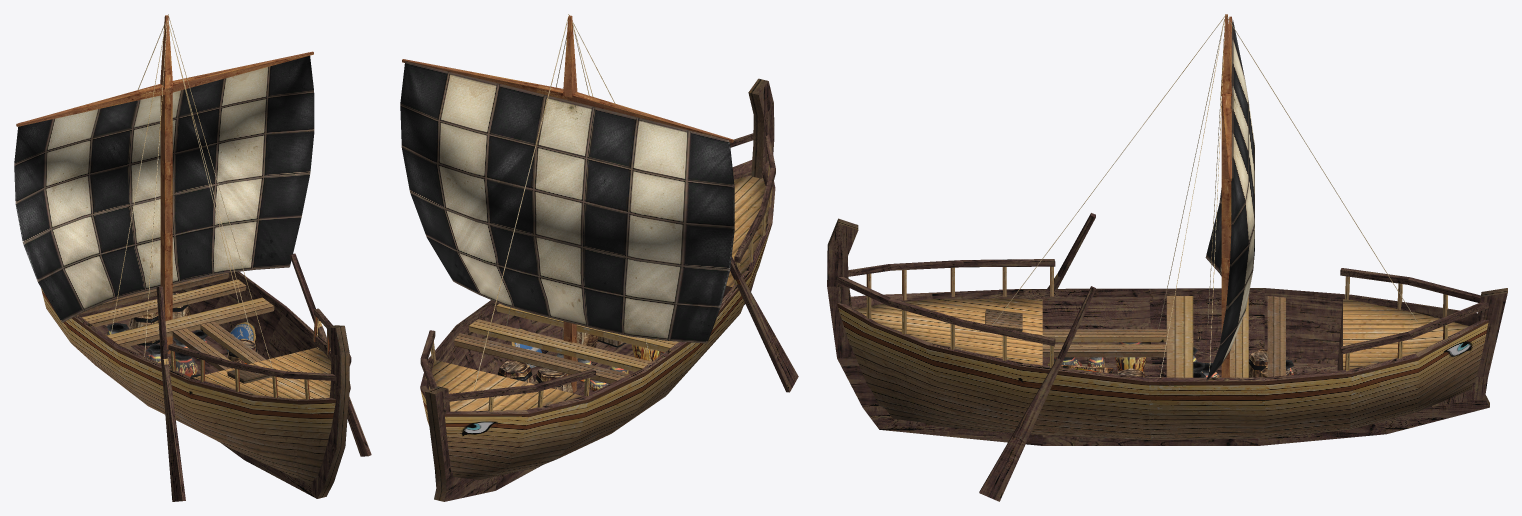
The model's file is pirates_ship_merchant.glb.
3 renders of one model, left to right at view 1: azimuth 30°, elevation 25°; view 2: azimuth 150°, elevation 25°; view 3: azimuth 270°, elevation 25°, orthographic. The views are drawn at different scales.
Parts seen in each view (by area): view 1: pirates_ship_merchant_part3, pirates_ship_merchant_part0, pirates_ship_merchant_part1; view 2: pirates_ship_merchant_part3, pirates_ship_merchant_part0, pirates_ship_merchant_part1; view 3: pirates_ship_merchant_part0, pirates_ship_merchant_part3, pirates_ship_merchant_part1.
Boxes of the visible parts, x1=… form: pirates_ship_merchant_part3: x1=14, y1=14, x2=314, y2=368; pirates_ship_merchant_part0: x1=41, y1=253, x2=371, y2=501; pirates_ship_merchant_part1: x1=106, y1=293, x2=257, y2=377; pirates_ship_merchant_part3: x1=400, y1=14, x2=734, y2=392; pirates_ship_merchant_part0: x1=420, y1=78, x2=798, y2=501; pirates_ship_merchant_part1: x1=497, y1=327, x2=664, y2=393; pirates_ship_merchant_part0: x1=827, y1=213, x2=1507, y2=501; pirates_ship_merchant_part3: x1=992, y1=14, x2=1417, y2=381; pirates_ship_merchant_part1: x1=1047, y1=342, x2=1293, y2=377.
Bounding box in the file's own units: 3.13 × 3.9 × 5.5.
4 materials, 4 textured.
